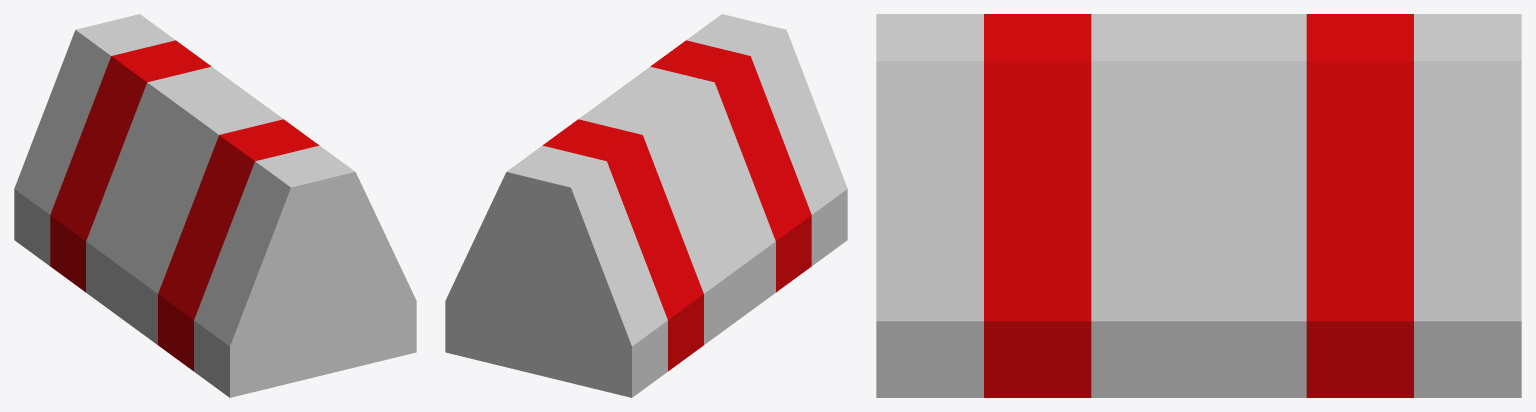
The model's file is oijhretouihpesrgdtiho[.fbx.
3 renders of one model, left to right at view 1: azimuth 30°, elevation 25°; view 2: azimuth 150°, elevation 25°; view 3: azimuth 270°, elevation 25°, orthographic. The views are drawn at different scales.
Parts seen in each view (by area): view 1: Cube; view 2: Cube; view 3: Cube.
Boxes of the visible parts, x1,y1,x2,y2 form: Cube: (14,14,416,397); Cube: (445,14,847,397); Cube: (876,14,1521,397).
Size of the model in its own units: 200 by 200 by 400.
